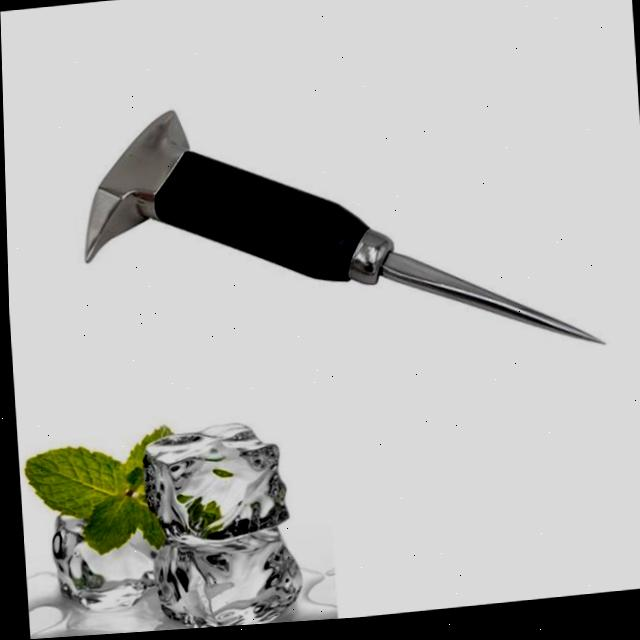ice pick: (70, 71, 605, 401)
